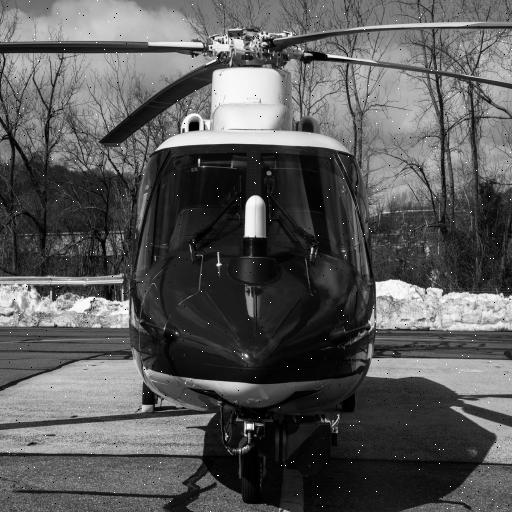helicopter: (52, 3, 504, 496)
